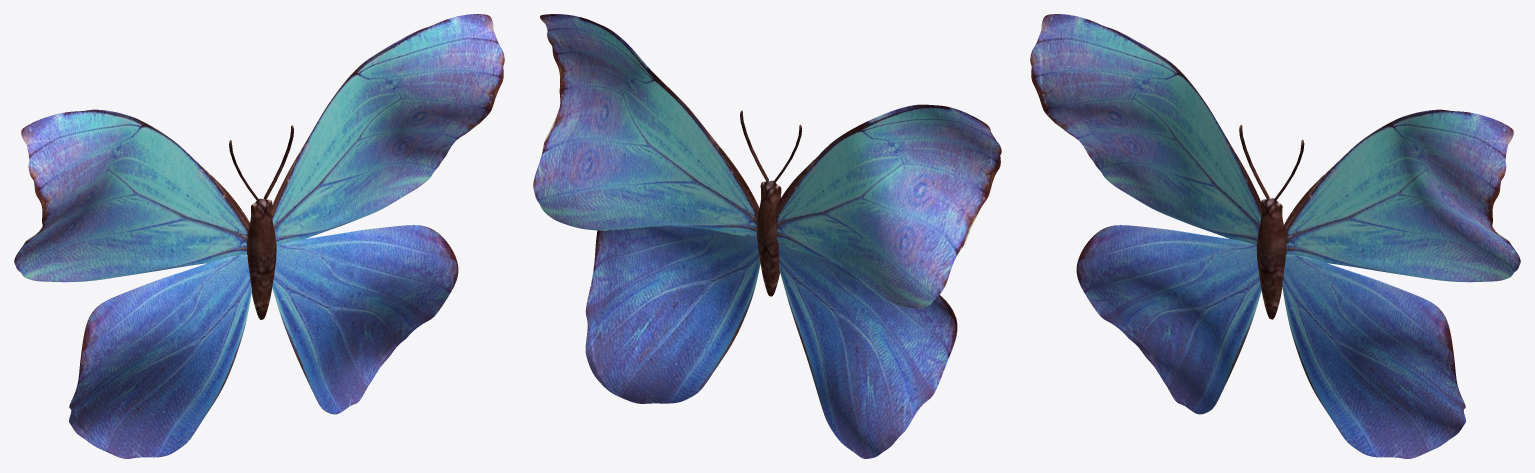
The model's file is ButterflySketch2.fbx.
3 renders of one model, left to right at view 1: azimuth 30°, elevation 25°; view 2: azimuth 150°, elevation 25°; view 3: azimuth 330°, elevation 25°, orthographic. The views are drawn at different scales.
Parts seen in each view (by area): view 1: Vert, Cube; view 2: Vert, Cube; view 3: Vert, Cube.
Boxes of the visible parts, <box> form: Vert: <box>14,14,504,458</box>; Cube: <box>229,125,293,319</box>; Vert: <box>533,14,1001,458</box>; Cube: <box>740,110,801,296</box>; Vert: <box>1030,14,1520,458</box>; Cube: <box>1239,124,1304,319</box>.
Bounding box in the file's own units: 457 × 346 × 71.93.
Materials: 1 (1 with a texture image).
